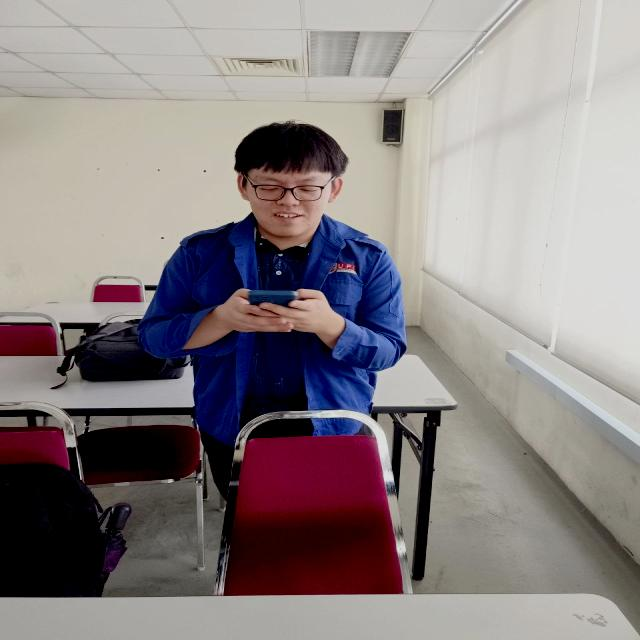person_with_labcoat: (141, 122, 405, 491)
